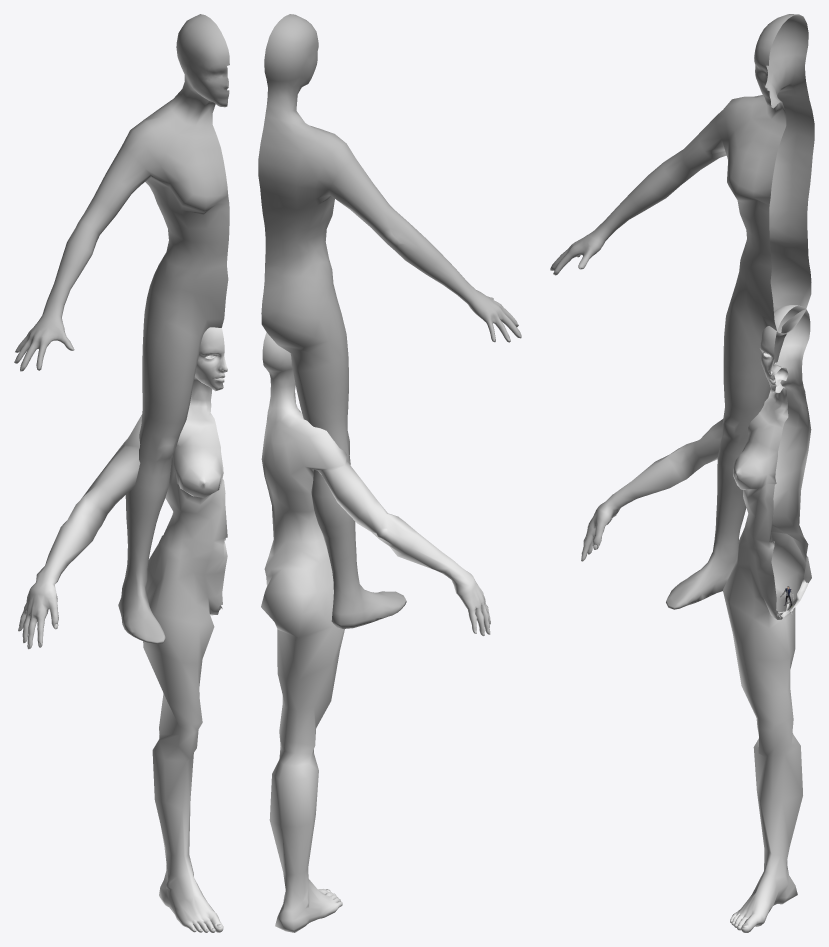
Rendered from ronald.fbx.
3 views of the same model, side by side, from view 1: azimuth 30°, elevation 25°; view 2: azimuth 150°, elevation 25°; view 3: azimuth 330°, elevation 25° (orthographic).
Parts seen in each view (by area): view 1: Mesh, female_base; view 2: Mesh, female_base; view 3: Mesh, female_base.
Boxes of the visible parts, x1=… form: Mesh: x1=14, y1=14, x2=229, y2=643; female_base: x1=18, y1=327, x2=227, y2=932; Mesh: x1=258, y1=14, x2=521, y2=628; female_base: x1=261, y1=332, x2=490, y2=932; Mesh: x1=550, y1=14, x2=814, y2=609; female_base: x1=581, y1=305, x2=811, y2=932.
Size of the model in its own units: 6527 by 25394 by 3347.
